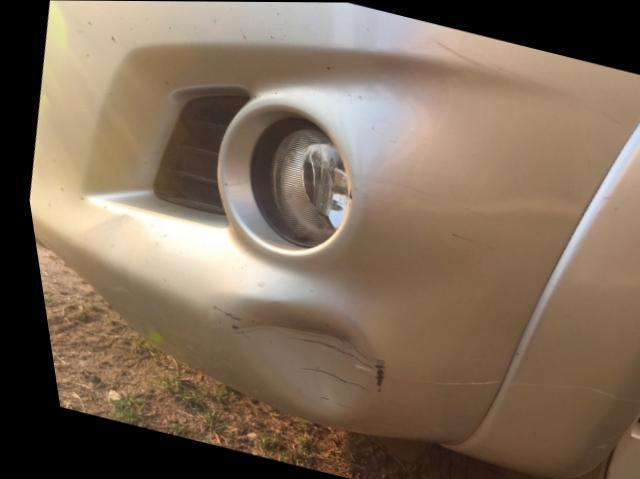dent: (227, 300, 360, 416)
